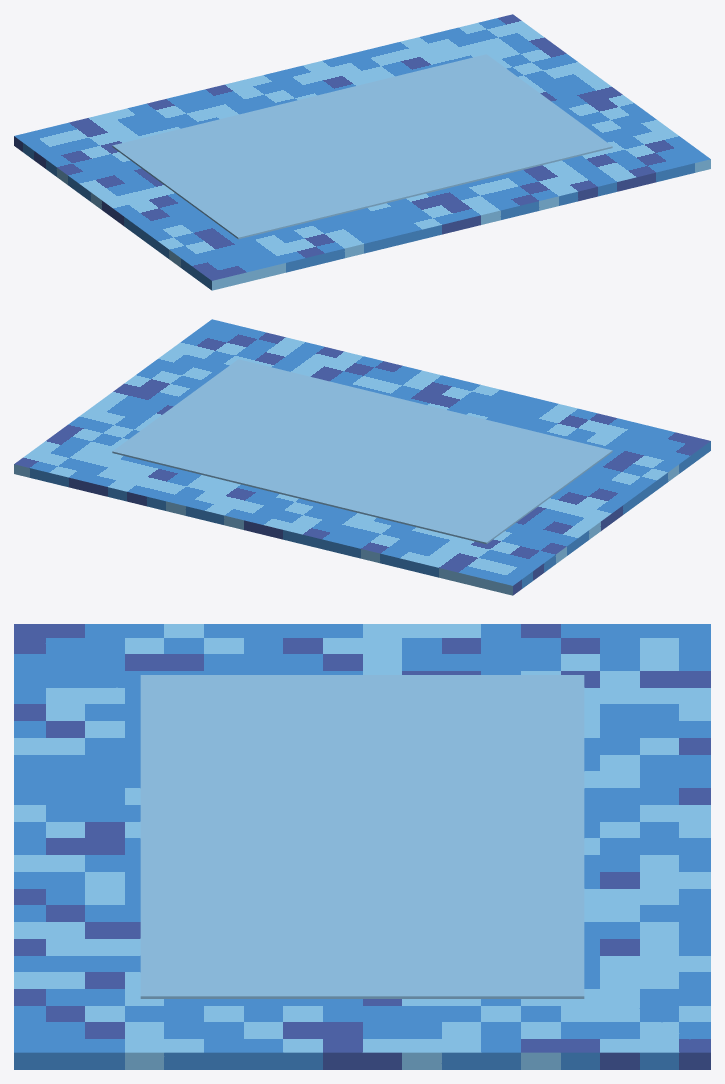
Rendered from movel_b09.glb.
3 views of the same model, one above another, from view 1: azimuth 30°, elevation 25°; view 2: azimuth 150°, elevation 25°; view 3: azimuth 270°, elevation 25° (orthographic). The views are drawn at different scales.
Visible parts, largest first — view 1: movel_b09; view 2: movel_b09; view 3: movel_b09.
Boxes of the visible parts, <box> form: movel_b09: <box>14,14,710,290</box>; movel_b09: <box>14,319,710,595</box>; movel_b09: <box>14,624,710,1069</box>.
Bounding box in the file's own units: 1.6 × 0.035 × 1.1.
2 materials, 1 textured.
